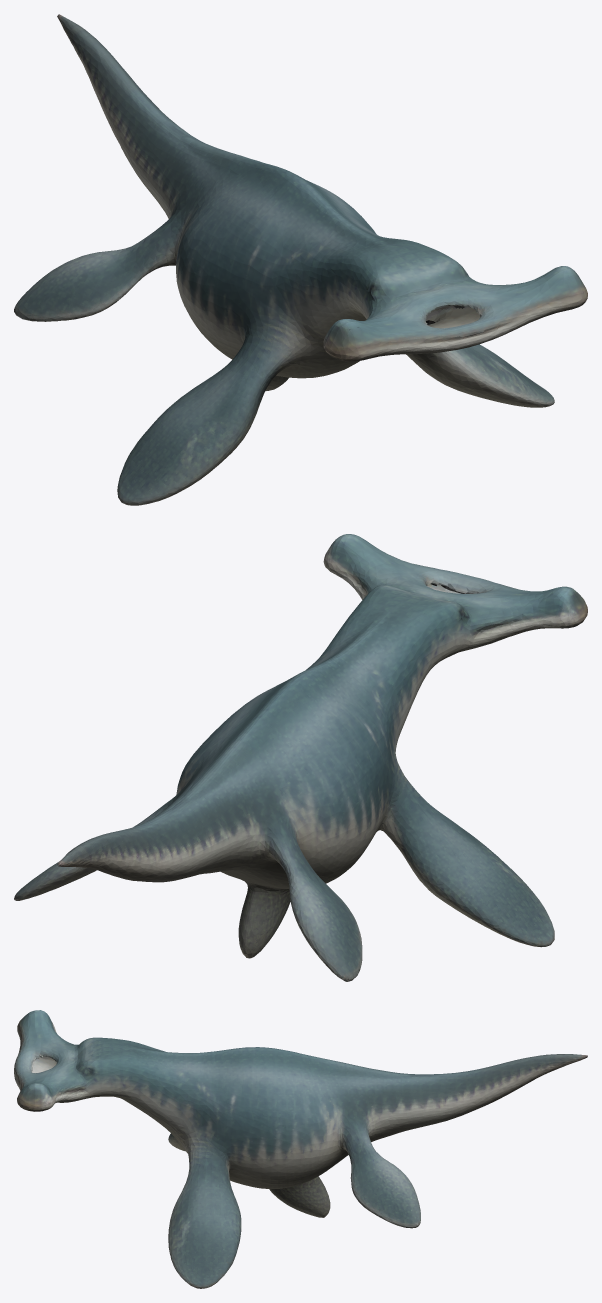
3 views of the same model, one above another, from view 1: azimuth 30°, elevation 25°; view 2: azimuth 150°, elevation 25°; view 3: azimuth 270°, elevation 25° (orthographic). The views are drawn at different scales.
Visible parts, largest first — view 1: world; view 2: world; view 3: world.
Boxes of the visible parts, box(x1,y1,x2,y2) form: world: box(14, 14, 587, 505); world: box(14, 534, 587, 981); world: box(14, 1010, 587, 1288).
Bounding box in the file's own units: 0.5986 × 0.3267 × 0.9993.
Materials: 1 (1 with a texture image).
